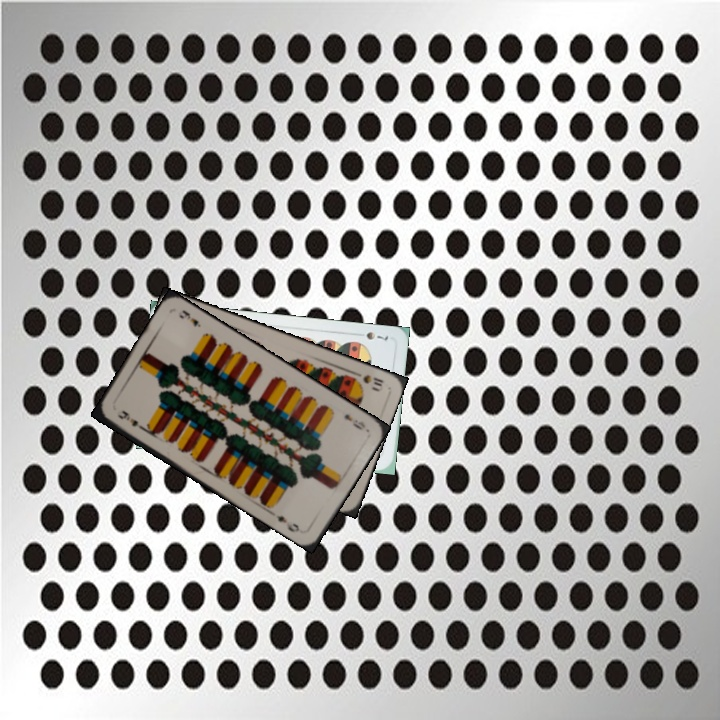E9: (340, 410, 368, 433), (114, 407, 141, 429)
S10: (349, 367, 386, 393)
S7: (362, 328, 391, 343)
